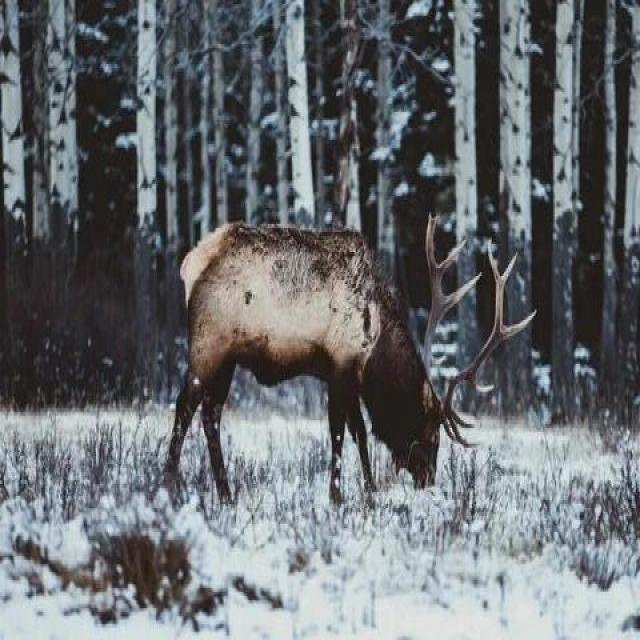deer: (158, 125, 512, 508)
